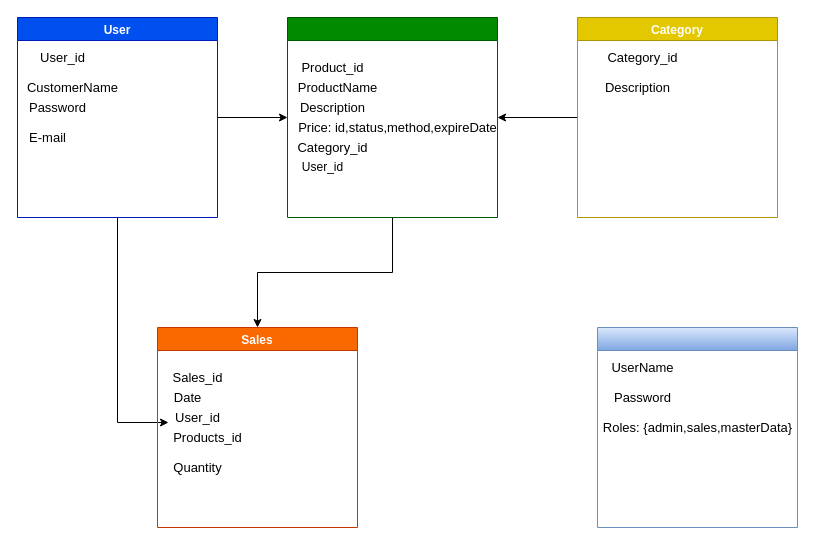
Some shapes in this 815 by 545 pixel diagram are drawn without their labels. The shapes that lost their labels are listed below. From the top down, each one's box as (x1, y1, x2, y2) in pixels, then its label:
(286, 16, 498, 218): Products
(596, 326, 798, 528): UsersBO
